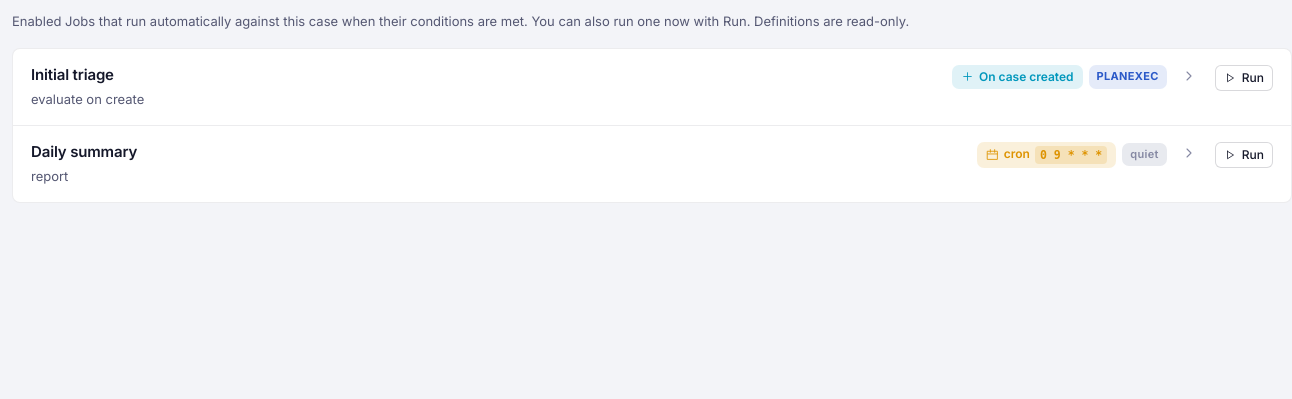
Test case: CaseJobList › allows multiple rows open at once
The width and height of the screenshot is (1292, 399).
Step 1. Click the button "Initial triage evaluate on create On case created planexec" → (72, 74), box [13, 48, 1215, 125]
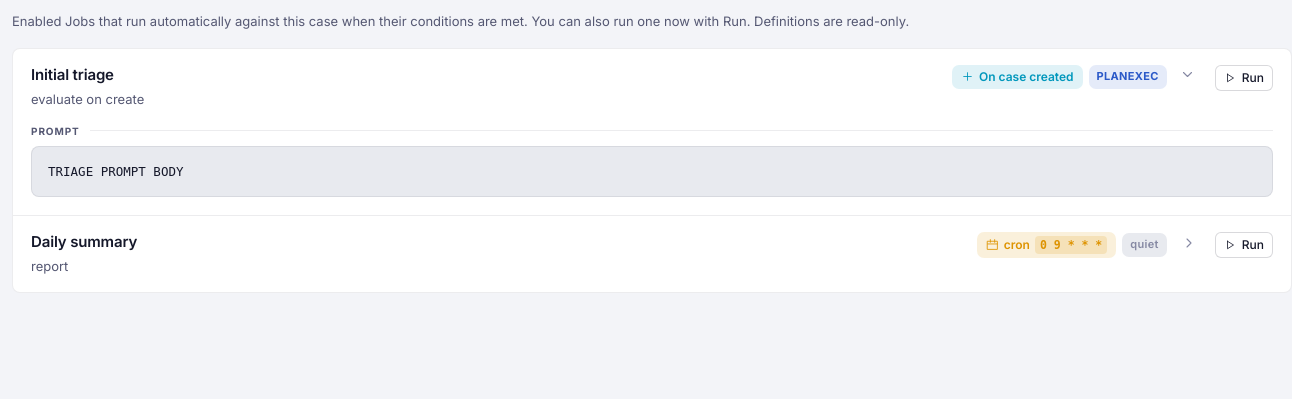
Step 2. Click the button "Daily summary report cron 0 9 * * * quiet" → (84, 241), box [13, 216, 1215, 292]
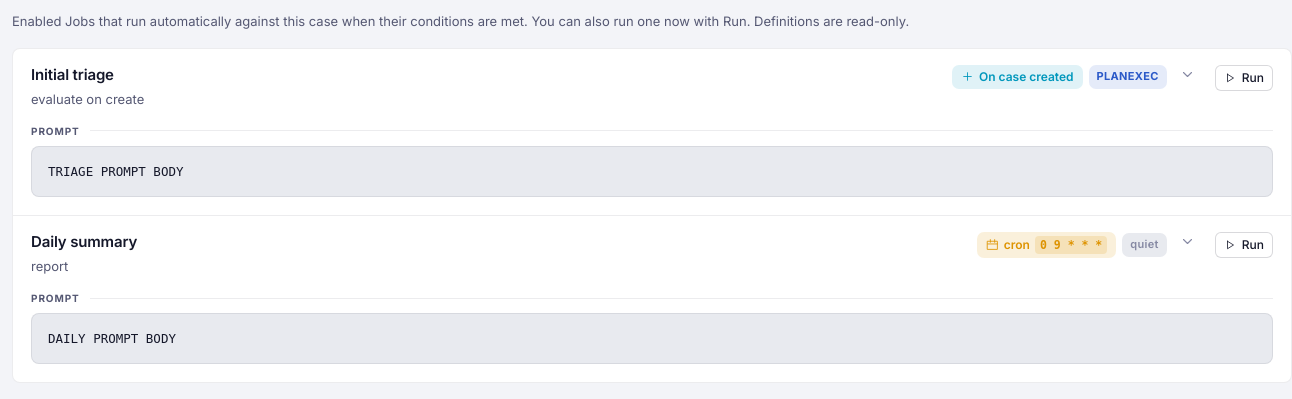
Expected: the text "TRIAGE PROMPT BODY" is shown, [31, 146, 1273, 197]
Expected: the text "DAILY PROMPT BODY" is shown, [31, 313, 1273, 364]
